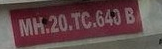0: (58, 13, 69, 32), (112, 8, 121, 26)
2: (47, 15, 60, 33)
4: (104, 9, 114, 26)
6: (95, 9, 105, 27)
B: (123, 6, 136, 25)
C: (81, 10, 92, 30)
H: (32, 16, 46, 35)
M: (16, 17, 34, 37)
T: (70, 11, 82, 30)
